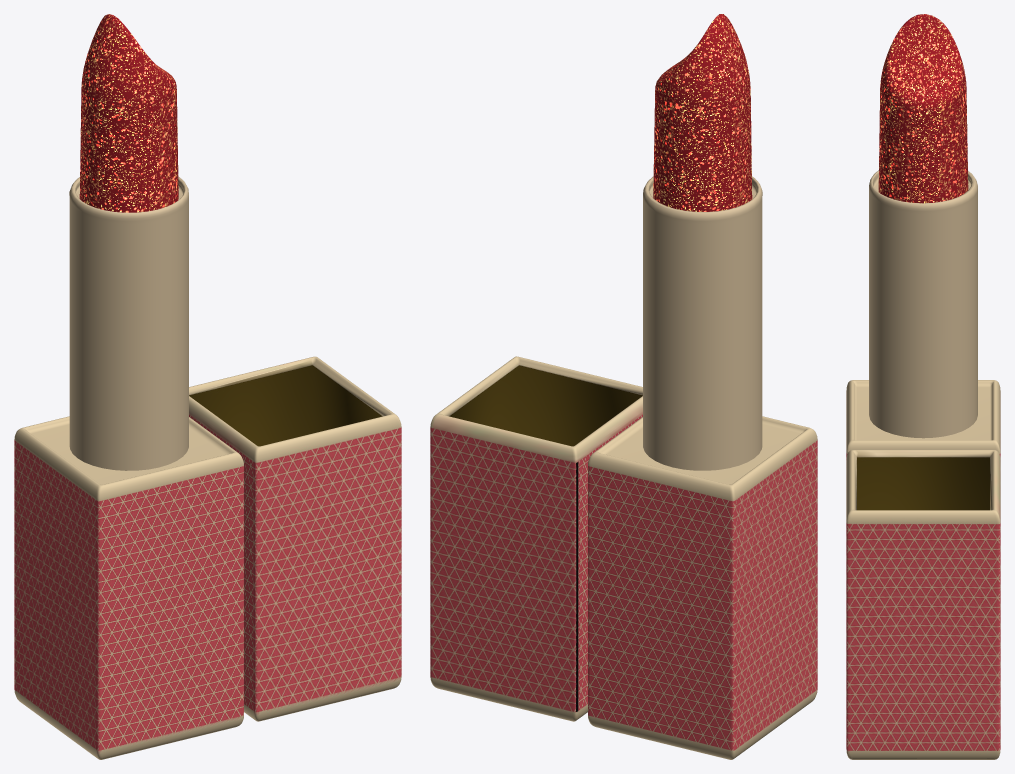
Rendered from glitter_lipstick (1).glb.
3 views of the same model, side by side, from view 1: azimuth 30°, elevation 25°; view 2: azimuth 150°, elevation 25°; view 3: azimuth 270°, elevation 25° (orthographic). The views are drawn at different scales.
Visible parts, largest first — view 1: Rectangle, Rectangle1, Cone, Lipstick_colour; view 2: Rectangle, Rectangle1, Cone, Lipstick_colour; view 3: Rectangle1, Cone, Lipstick_colour, Rectangle.
Part boxes in pixels (x1,y1,x2,y2): Rectangle: [14, 416, 243, 759]; Rectangle1: [189, 356, 401, 721]; Cone: [69, 176, 188, 470]; Lipstick_colour: [79, 14, 178, 212]; Rectangle: [588, 416, 817, 759]; Rectangle1: [430, 356, 642, 721]; Cone: [643, 176, 762, 470]; Lipstick_colour: [653, 14, 752, 211]; Rectangle1: [846, 450, 1000, 759]; Cone: [869, 170, 977, 438]; Lipstick_colour: [878, 14, 968, 203]; Rectangle: [846, 380, 1000, 459].
Bounding box in the file's own units: 0.0577 × 0.1272 × 0.0278.
Materials: 4 (4 with a texture image).
